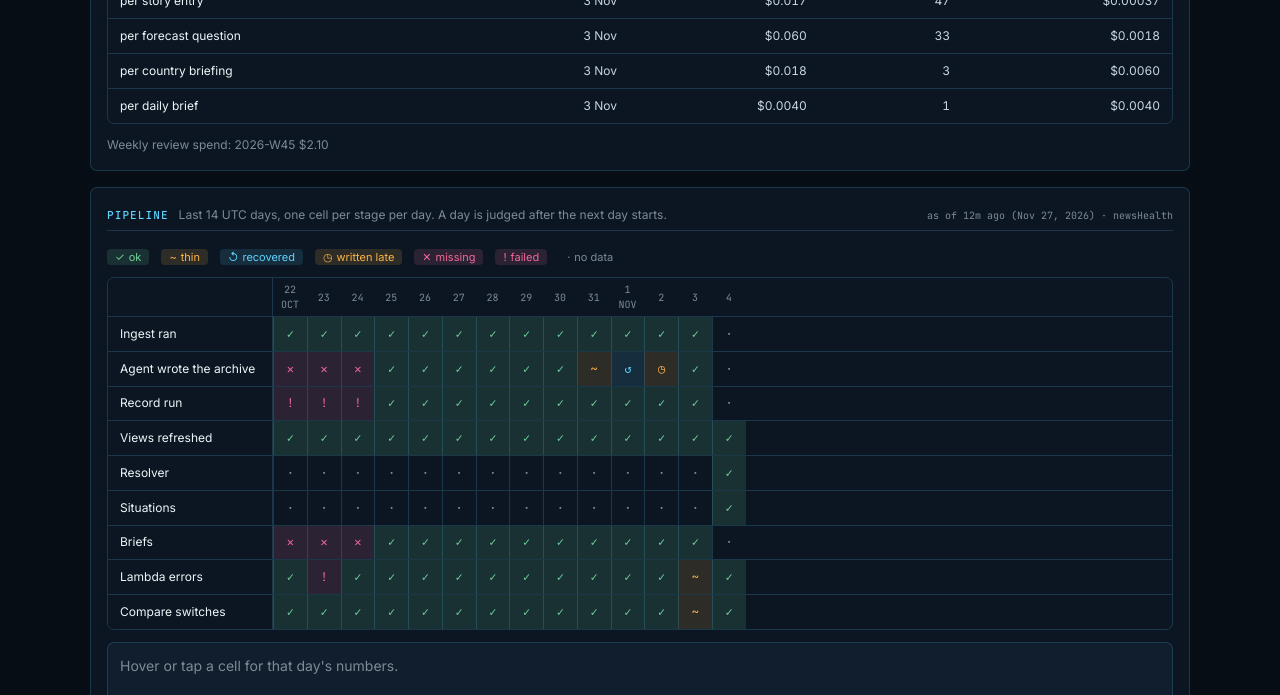
Test case: OpsPage pipeline panel › a day with stories written late is its own warning status, with its late count in the detail card
(page scrolled)
Expected: the element named "Cell key" shows "written late", [337,250,394,264]
Step 1. Click the button named "Agent wrote the archive, 2 Nov: written late" → click(661, 369), box [644,352,678,386]
(page scrolled)
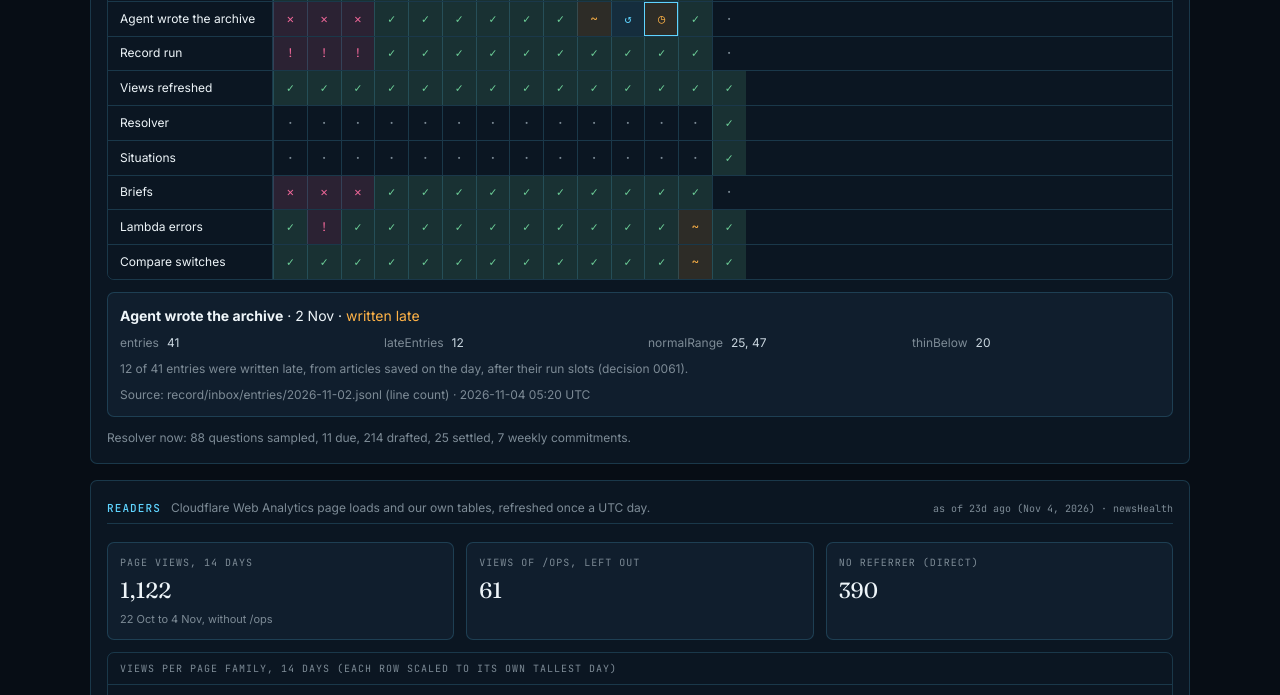
Result: the text "written late" is shown at [346,307,420,324]
Result: the text "lateEntries" is shown at [384,334,444,352]
Result: the text "12" is shown at [452,334,464,352]
